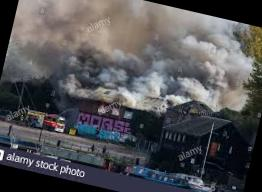Smoke: (1, 0, 262, 135)
